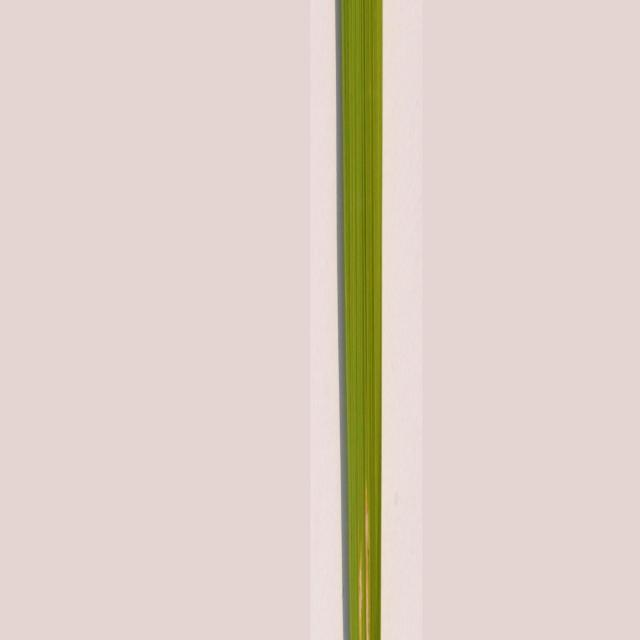leaf blight: (349, 466, 388, 640)
